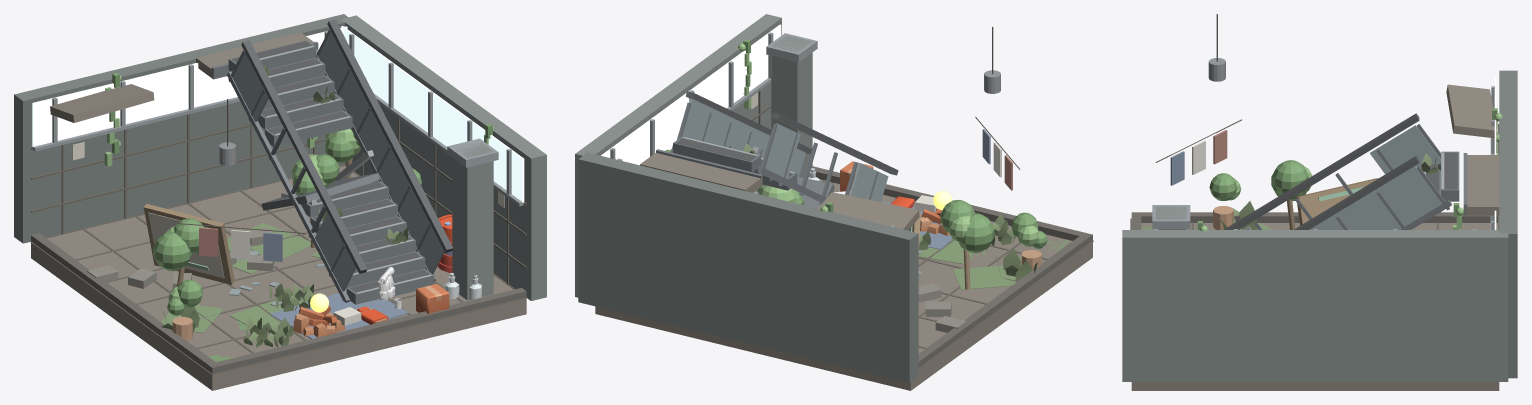
The model's file is mall_escalator.glb.
3 views of the same model, side by side, from view 1: azimuth 30°, elevation 25°; view 2: azimuth 150°, elevation 25°; view 3: azimuth 270°, elevation 25° (orthographic).
Visible parts, largest first — view 1: Backpack, barrel; view 2: Backpack, barrel; view 3: Backpack.
Part boxes in pixels (x1=…): Backpack: x1=14, y1=14, x2=546, y2=390; barrel: x1=293, y1=214, x2=452, y2=337; Backpack: x1=575, y1=14, x2=1093, y2=390; barrel: x1=840, y1=161, x2=949, y2=235; Backpack: x1=1122, y1=14, x2=1517, y2=390.
Size of the model in its own units: 6.45 by 4.5 by 6.45.
Materials: 39 (4 with a texture image).
